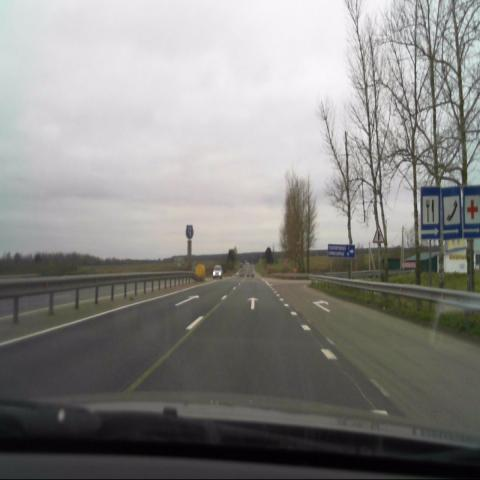7_1: (462, 186, 480, 239)
7_6: (440, 188, 463, 242)
7_7: (420, 187, 440, 239)
